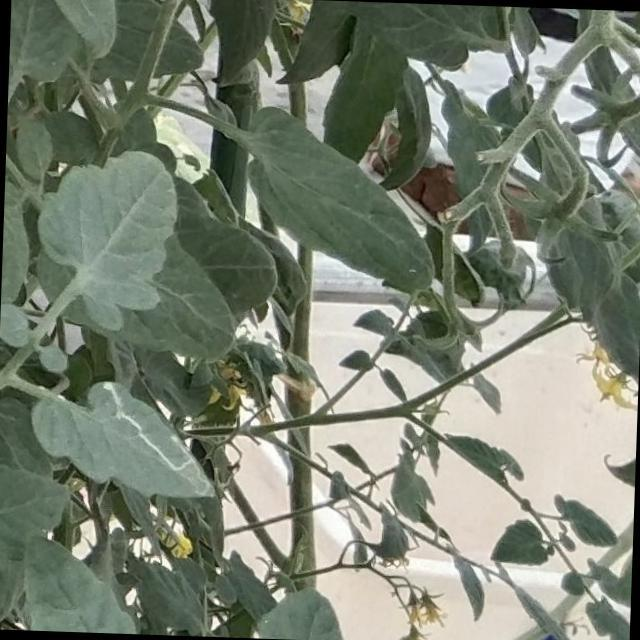Tomato healthy leaf: (238, 102, 444, 295), (33, 142, 184, 338)
Tomato target spot leaf: (25, 372, 223, 503)
